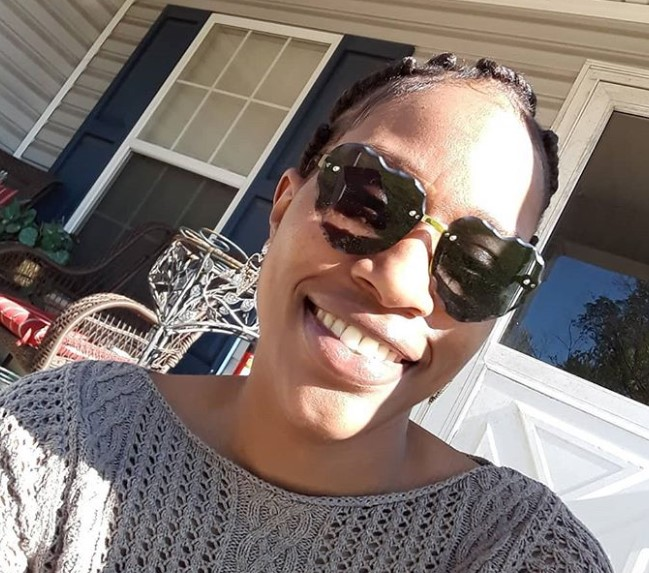face_no_mask: (256, 51, 544, 456)
